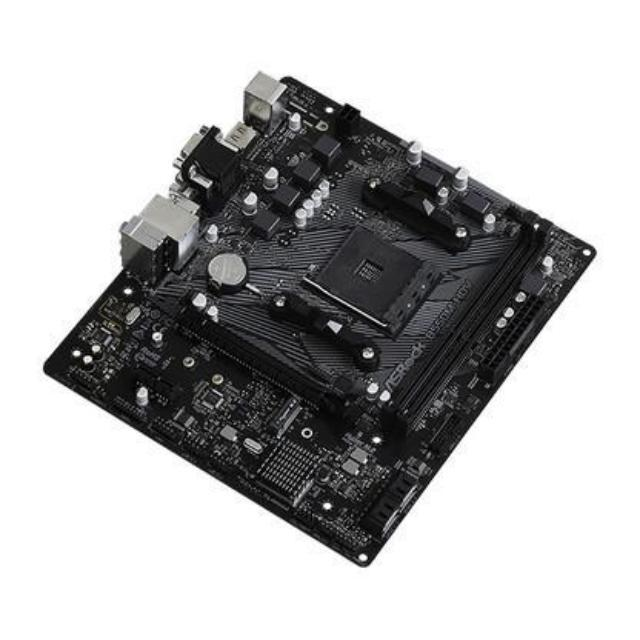Mainboard: (39, 77, 598, 563)
